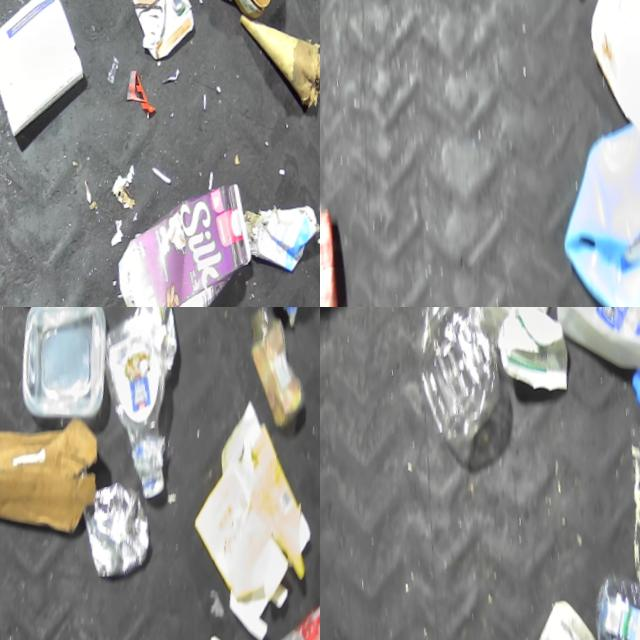can: (81, 476, 169, 582), (126, 307, 192, 380), (320, 198, 358, 307)
milk_jug: (539, 307, 640, 381), (320, 495, 355, 640), (590, 560, 640, 640), (320, 307, 336, 493)
non_white_jug: (109, 177, 275, 307), (544, 115, 640, 307), (113, 0, 210, 60)
plastic_bottle: (92, 314, 195, 504), (397, 307, 522, 455)
